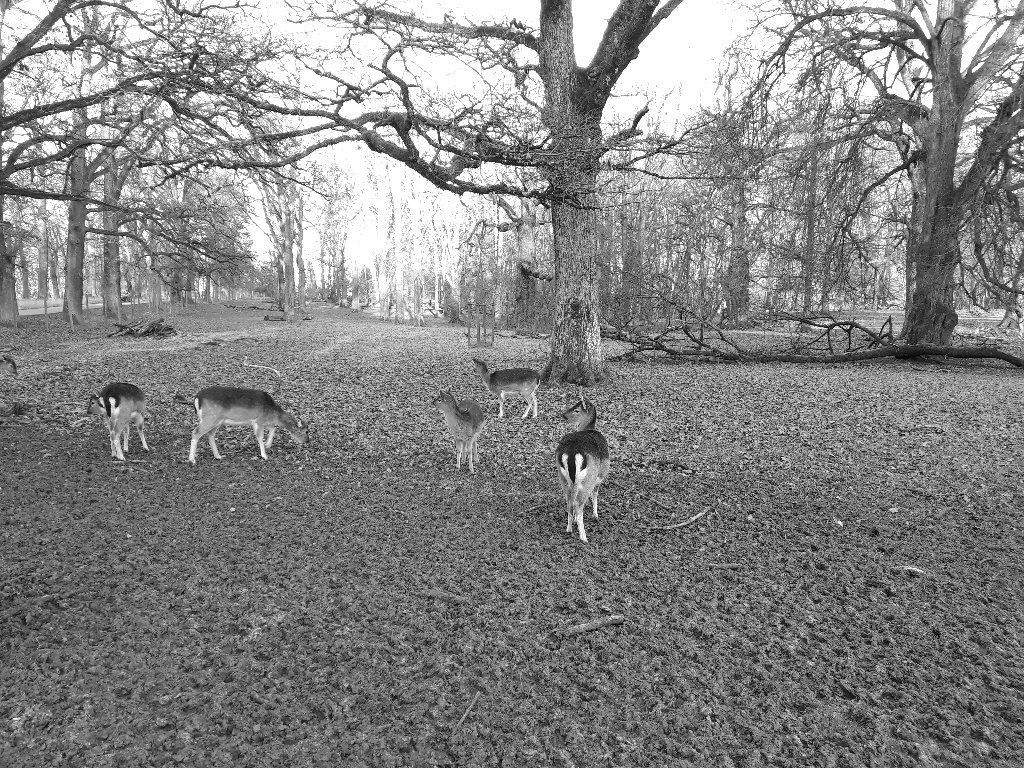Deer: (184, 386, 314, 464), (549, 395, 613, 544), (431, 390, 488, 475), (471, 355, 543, 421), (96, 383, 154, 459)
